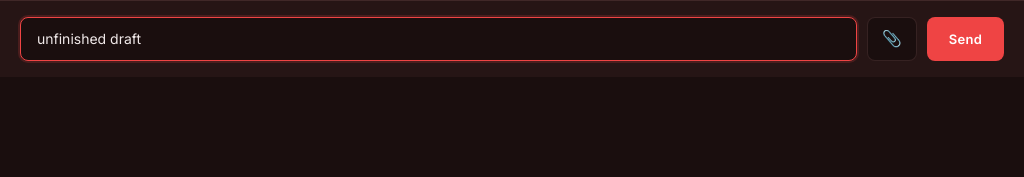
comfortable history recall › primary submit requests rewind and never silently appends after failure
Press ArrowUp in the text box, box [20, 17, 857, 61]
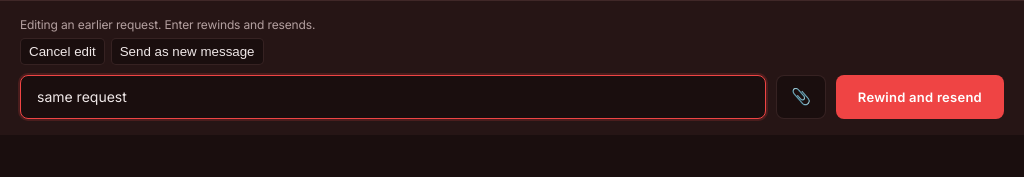
Replace the text in the text box with "corrected request" at (393, 97), box [20, 75, 766, 119]
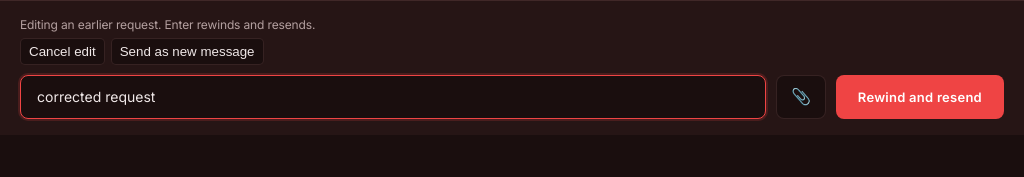
Press Enter in the text box, box [20, 75, 766, 119]
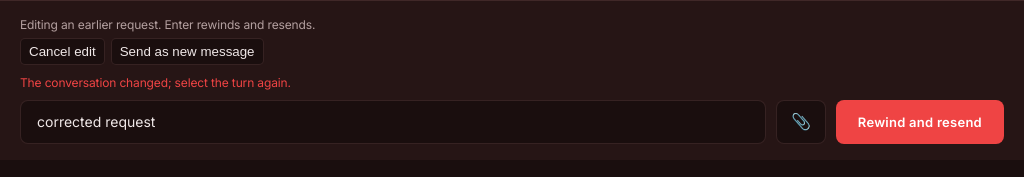
Expected: the button "Rewind and resend" is shown, [836, 100, 1004, 144]
Expected: the message shows "conversation changed", [20, 75, 291, 90]
